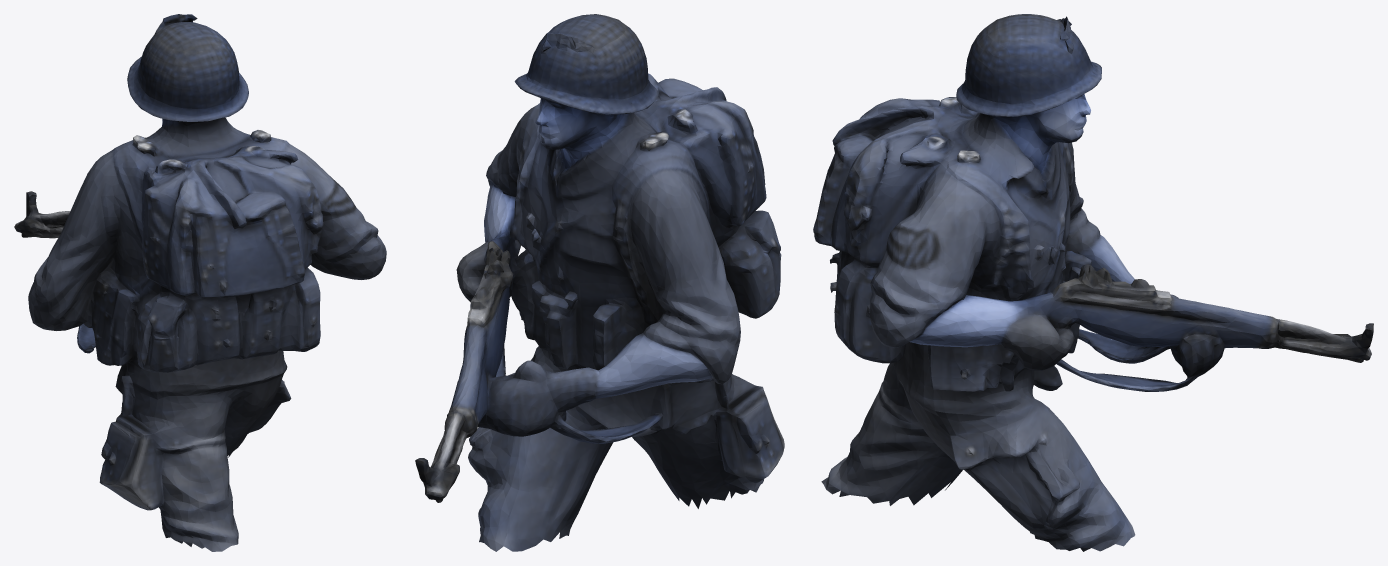
The model's file is torso_enemy.glb.
3 views of the same model, side by side, from view 1: azimuth 30°, elevation 25°; view 2: azimuth 150°, elevation 25°; view 3: azimuth 270°, elevation 25° (orthographic). The views are drawn at different scales.
Parts seen in each view (by area): view 1: infantry.glb; view 2: infantry.glb; view 3: infantry.glb.
Part boxes in pixels (<box>): infantry.glb: <box>14,14,386,551</box>; infantry.glb: <box>415,14,784,551</box>; infantry.glb: <box>813,14,1373,551</box>.
Bounding box in the file's own units: 0.455 × 0.6929 × 0.7003.
1 material, 1 textured.
